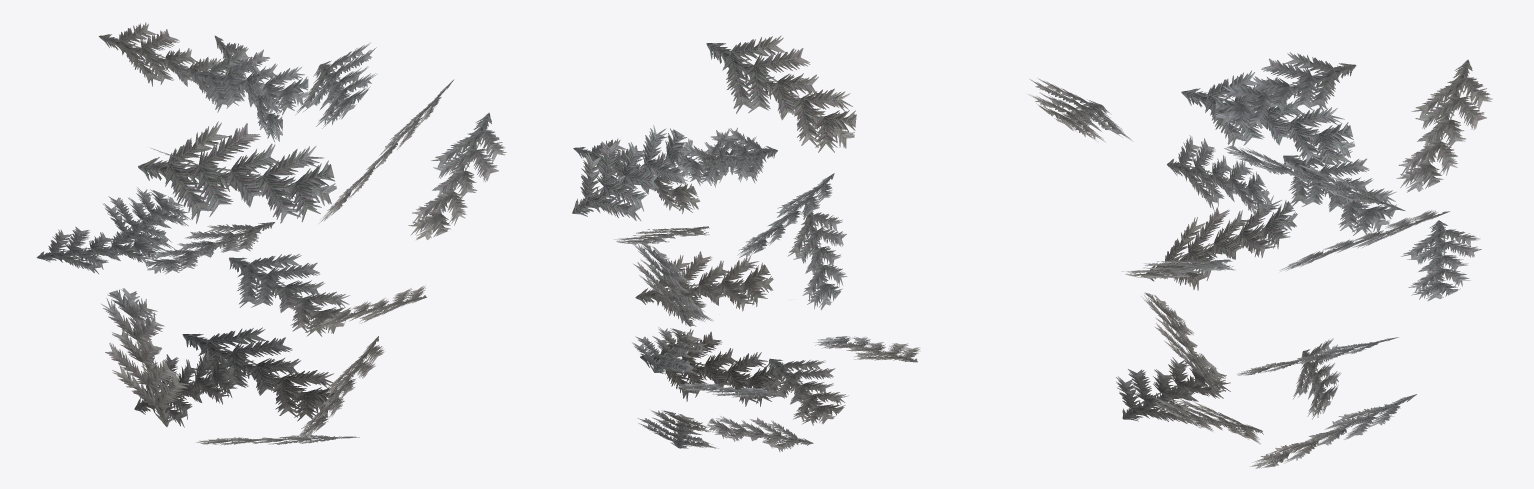
Rendered from pine_l2.gltf.
3 renders of one model, left to right at view 1: azimuth 30°, elevation 25°; view 2: azimuth 150°, elevation 25°; view 3: azimuth 270°, elevation 25°, orthographic. The views are drawn at different scales.
Parts seen in each view (by area): view 1: pine_l2; view 2: pine_l2; view 3: pine_l2.
Part boxes in pixels (box(x1,y1,x2,y2)): pine_l2: box(36, 22, 506, 445); pine_l2: box(572, 35, 920, 451); pine_l2: box(1027, 52, 1492, 468).
Bounding box in the file's own units: 6.77 × 6.39 × 7.09.
Materials: 1 (1 with a texture image).
